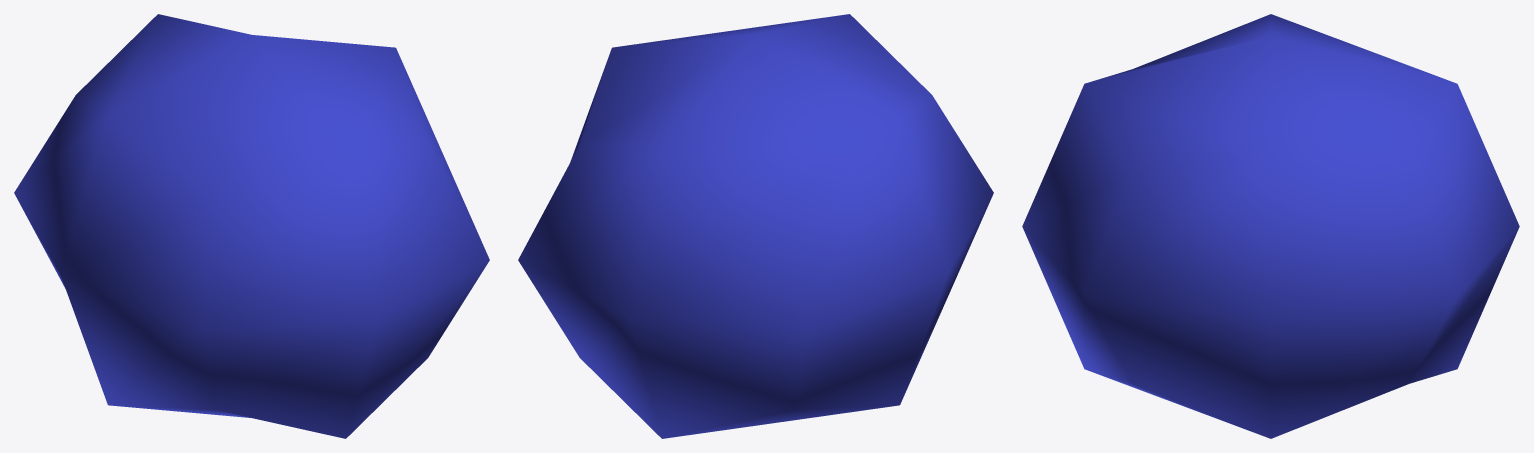
The model's file is ringo_2.fbx.
3 renders of one model, left to right at view 1: azimuth 30°, elevation 25°; view 2: azimuth 150°, elevation 25°; view 3: azimuth 270°, elevation 25°, orthographic.
Parts seen in each view (by area): view 1: Box001; view 2: Box001; view 3: Box001.
Boxes of the visible parts, x1,y1,x2,y2 form: Box001: (14,14,489,438); Box001: (518,14,993,438); Box001: (1022,14,1519,438).
Bounding box in the file's own units: 40.16 × 45.38 × 38.3.
Materials: 1 (1 with a texture image).
